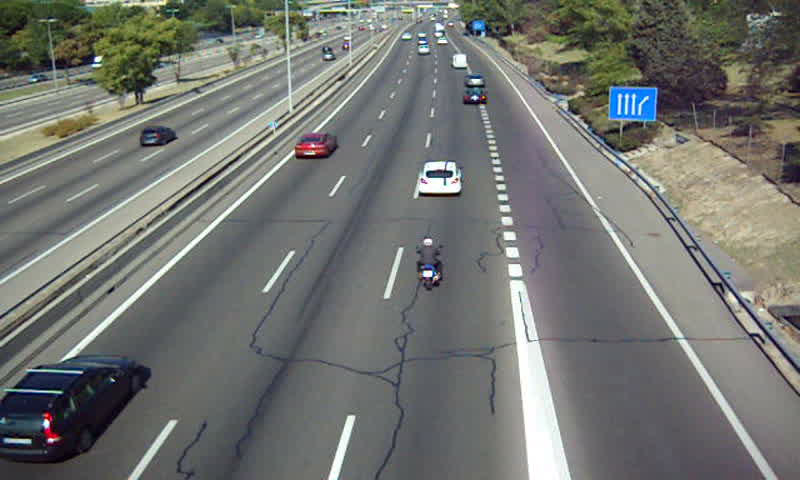car: (1, 356, 143, 462), (419, 161, 462, 196), (296, 133, 335, 159), (462, 89, 488, 104), (464, 73, 486, 89)
motorcycle: (413, 237, 444, 290)
van: (451, 53, 468, 69)
